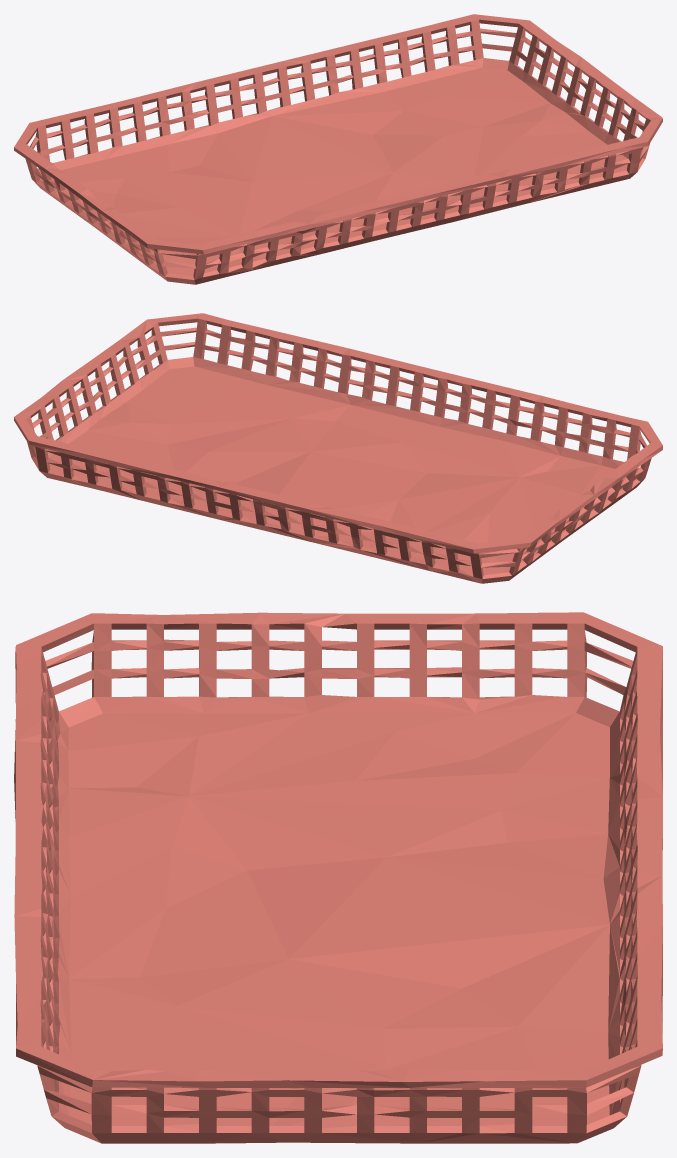
The model's file is BasketV2.fbx.
3 views of the same model, one above another, from view 1: azimuth 30°, elevation 25°; view 2: azimuth 150°, elevation 25°; view 3: azimuth 270°, elevation 25° (orthographic). The views are drawn at different scales.
Visible parts, largest first — view 1: Basket; view 2: Basket; view 3: Basket.
Part boxes in pixels (x1=…): Basket: x1=14, y1=14, x2=662, y2=284; Basket: x1=14, y1=313, x2=662, y2=583; Basket: x1=14, y1=612, x2=662, y2=1143.
Size of the model in its own units: 370 by 33.35 by 216.
